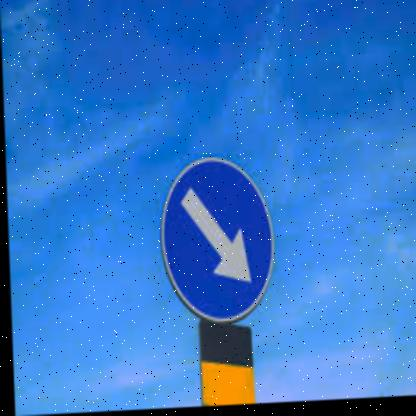Keep right: (155, 156, 277, 327)
